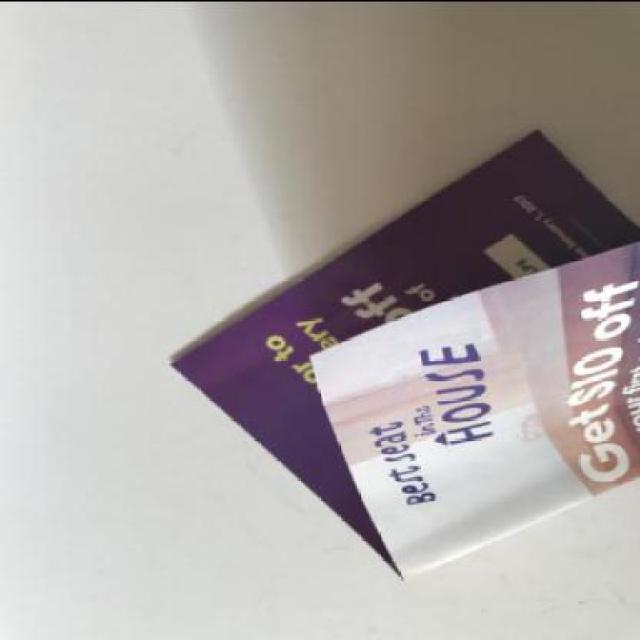PAPER: (167, 129, 638, 582)
